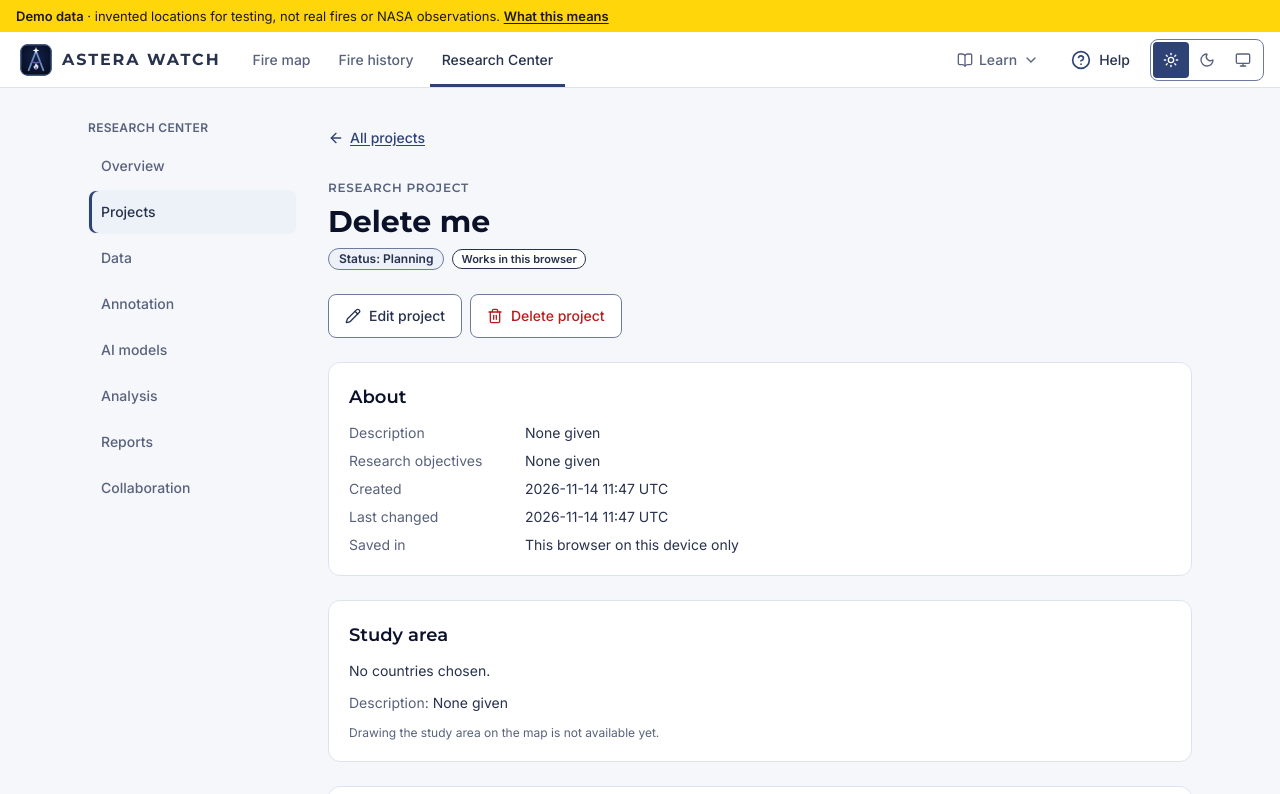
Scenario: research project pages › delete asks for confirmation; Cancel keeps the project, Delete removes it
Click the button "Delete project": [546, 316] box [470,294,622,338]
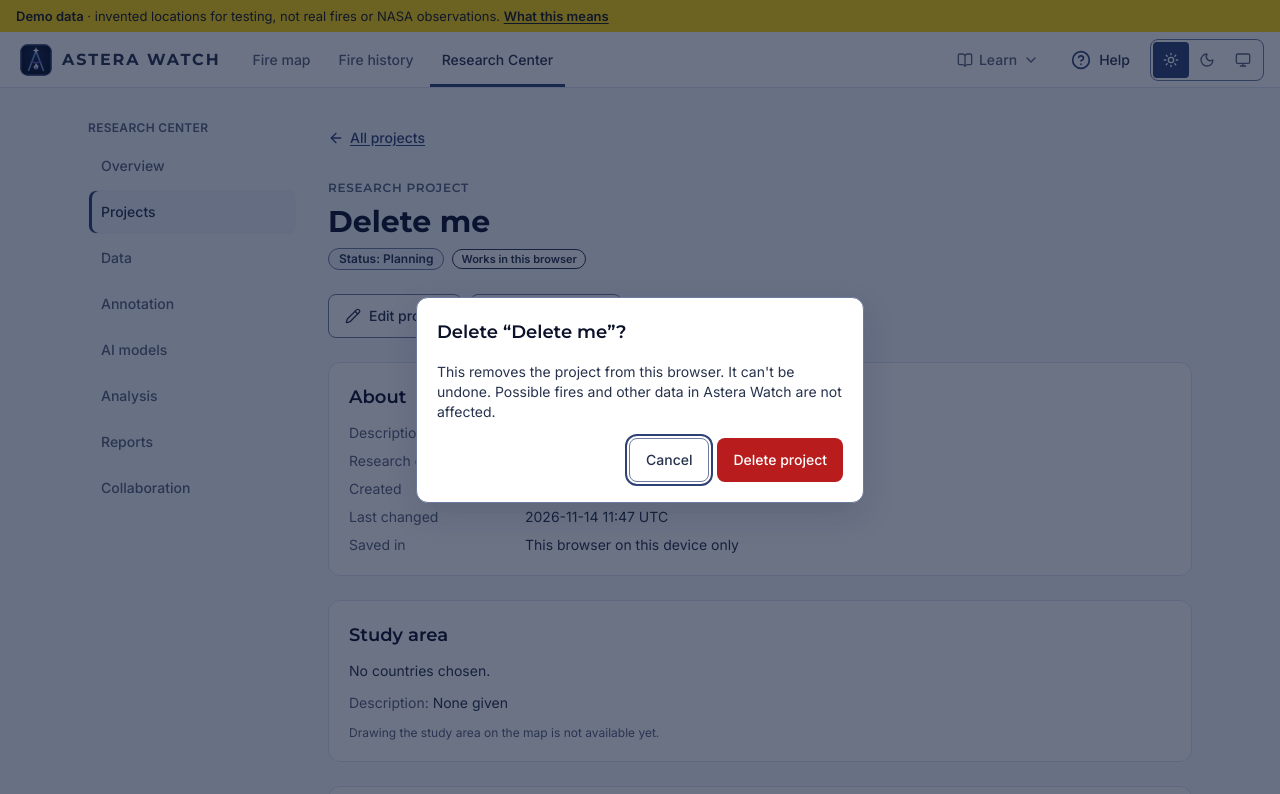
Check: the dialog "Delete “Delete me”?" shows "It can't be undone", box [437,363,842,420]
Click the button "Cancel": [669, 460] box [629,438,710,482]
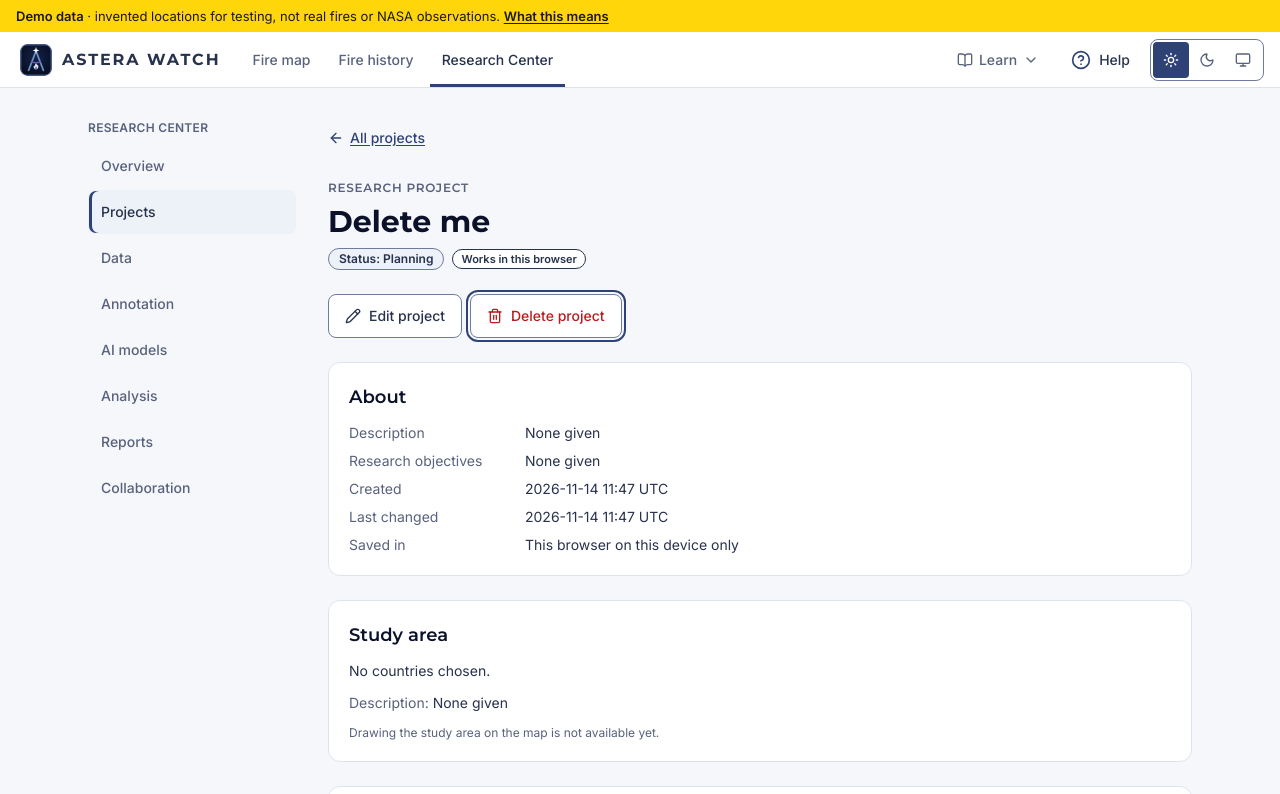
Check: the dialog is gone
Click the button "Delete project": [546, 316] box [470,294,622,338]
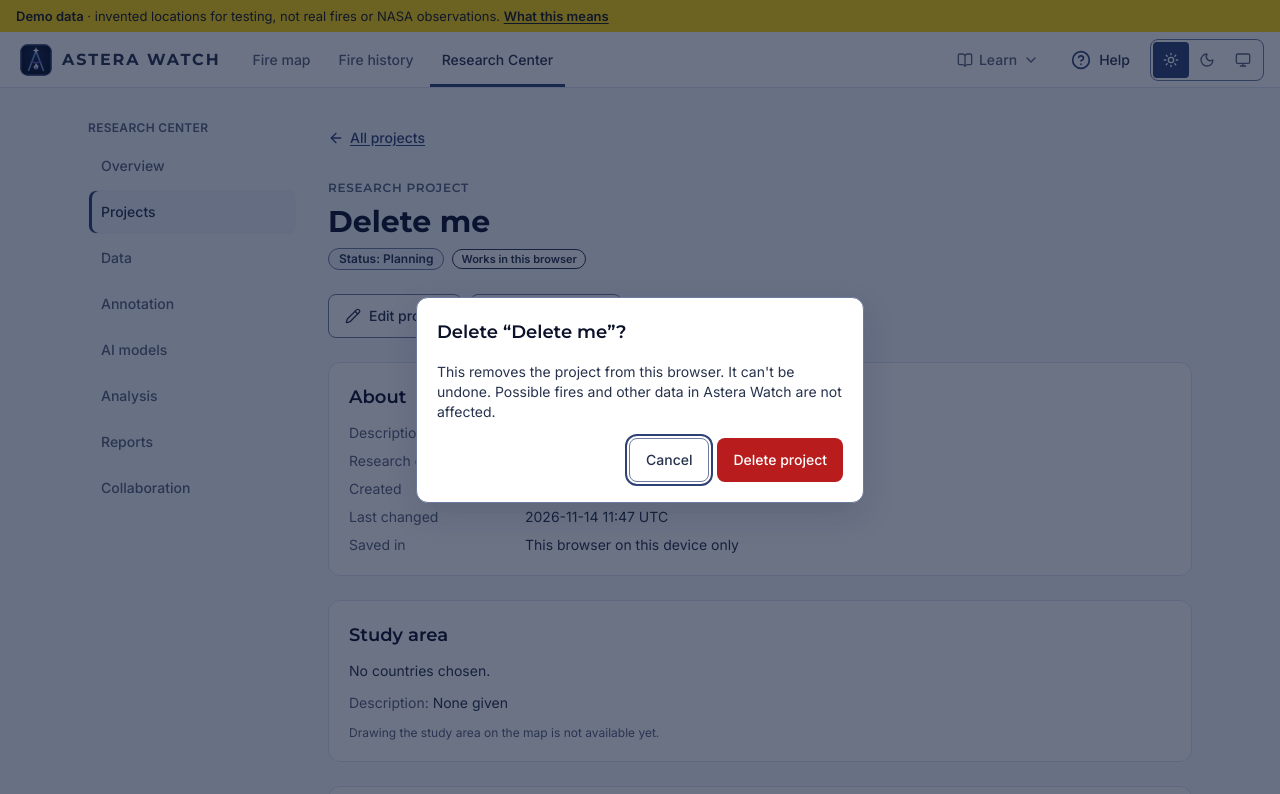
Click the button "Delete project": [780, 460] box [718,438,843,482]
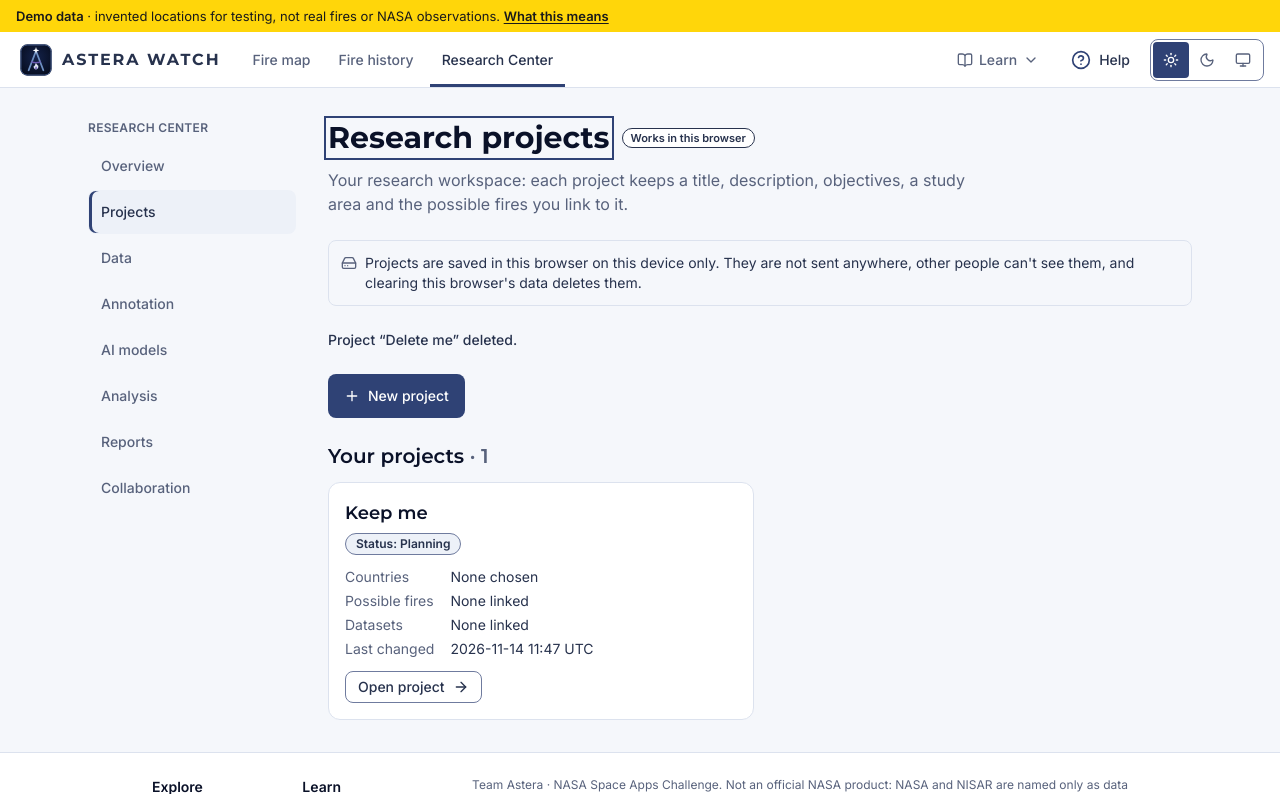
Check: the text "Project “Delete me” deleted." is shown, box [328,331,517,348]
